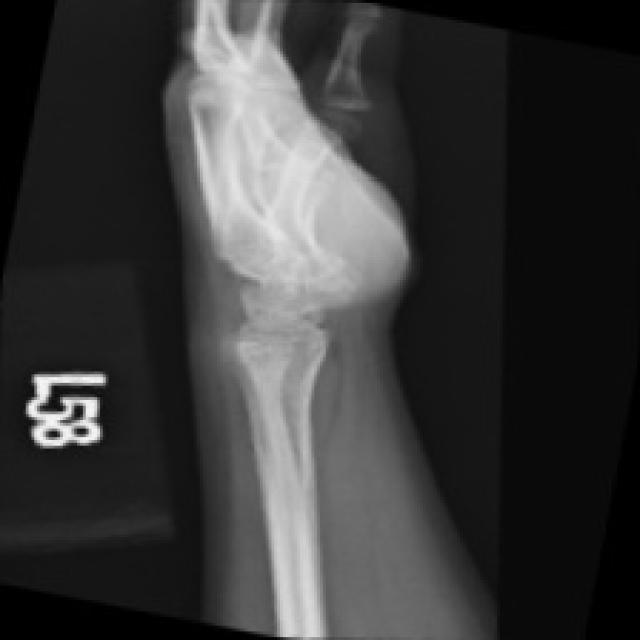fracture: (291, 72, 411, 156)
